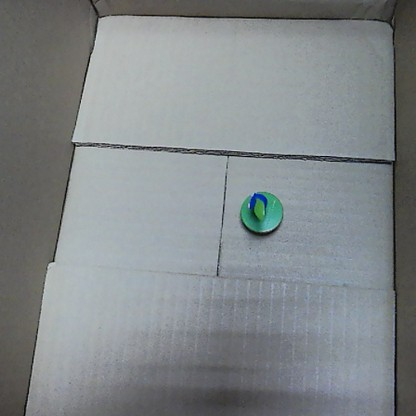leafairy: (236, 187, 284, 236)
